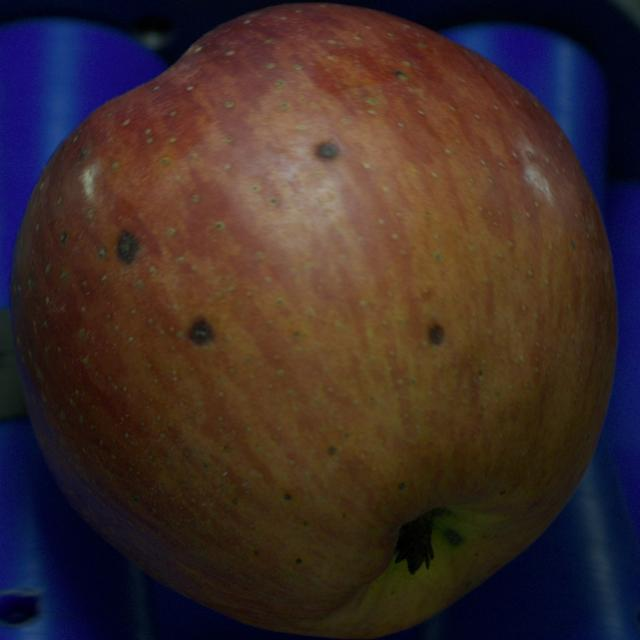apple: (11, 4, 616, 638)
pest: (189, 318, 214, 345), (118, 231, 139, 263), (316, 141, 340, 159), (429, 324, 444, 345), (444, 529, 462, 546), (395, 70, 406, 79)
